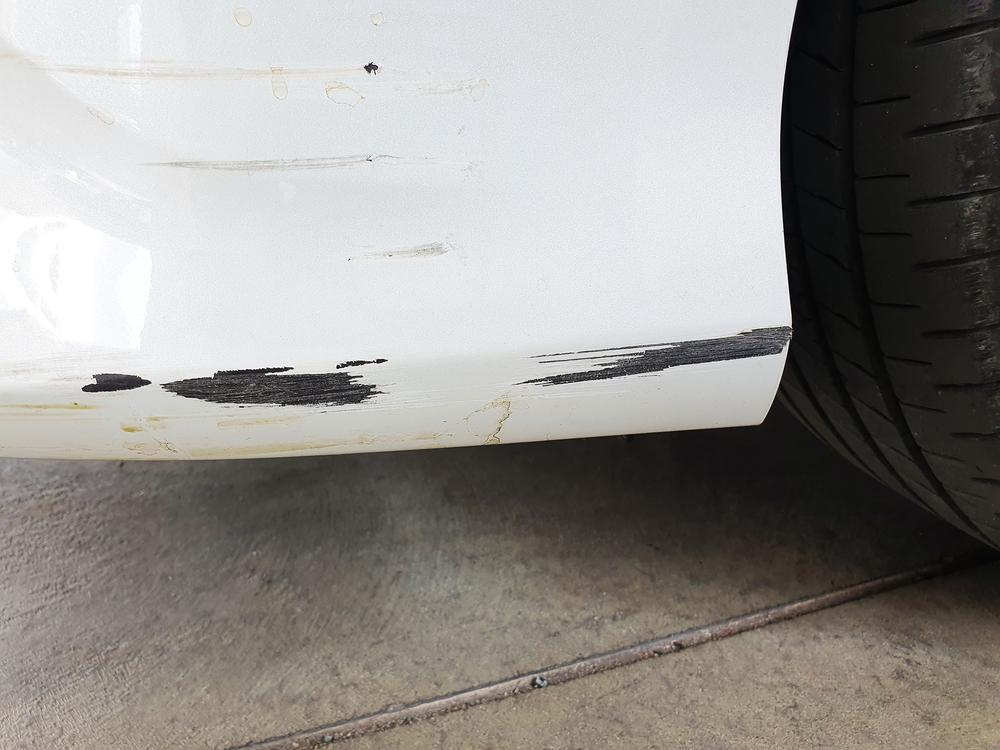scratch: (0, 322, 793, 420)
